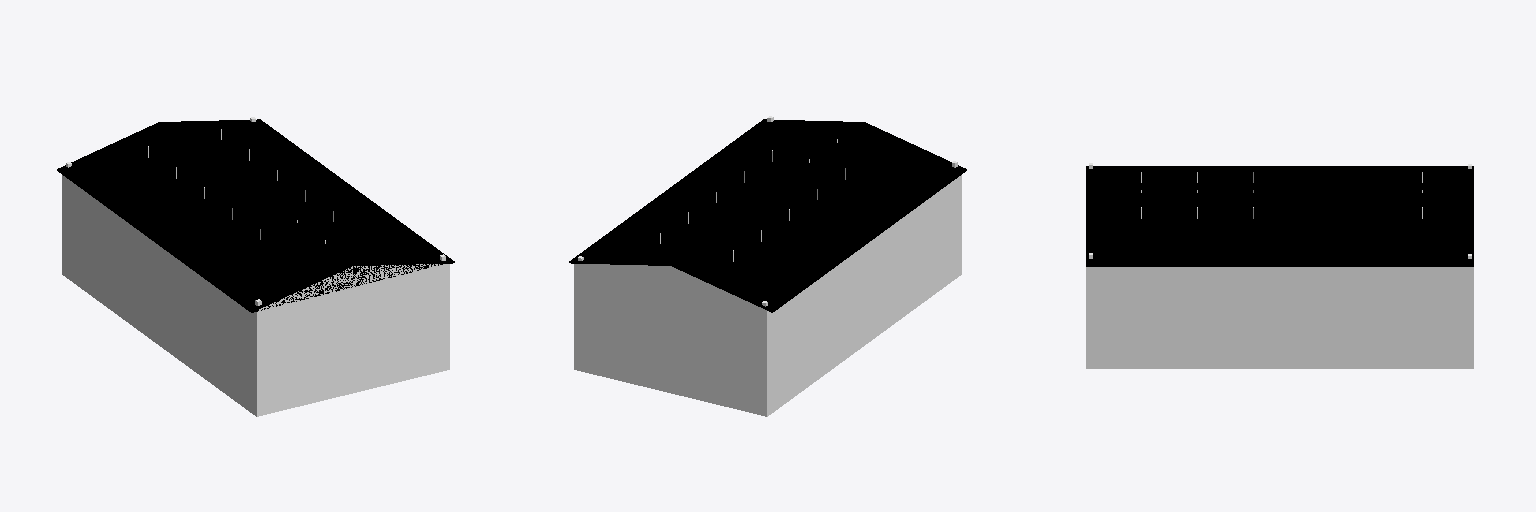
Rendered from Warehouse.obj.
The picture shows the model from 3 angles: view 1: azimuth 30°, elevation 25°; view 2: azimuth 150°, elevation 25°; view 3: azimuth 270°, elevation 25°; orthographic projection.
Visible parts, largest first — view 1: Mesh1 Walls Model, Mesh44 Model; view 2: Mesh1 Walls Model, Mesh44 Model; view 3: Mesh1 Walls Model, Mesh44 Model.
Boxes of the visible parts, x1,y1,x2,y2 form: Mesh1 Walls Model: [62, 175, 449, 416]; Mesh44 Model: [57, 119, 454, 312]; Mesh1 Walls Model: [574, 175, 961, 416]; Mesh44 Model: [569, 119, 966, 312]; Mesh1 Walls Model: [1086, 267, 1473, 368]; Mesh44 Model: [1086, 166, 1473, 266].
Size of the model in its own units: 16.72 by 10.43 by 27.64.